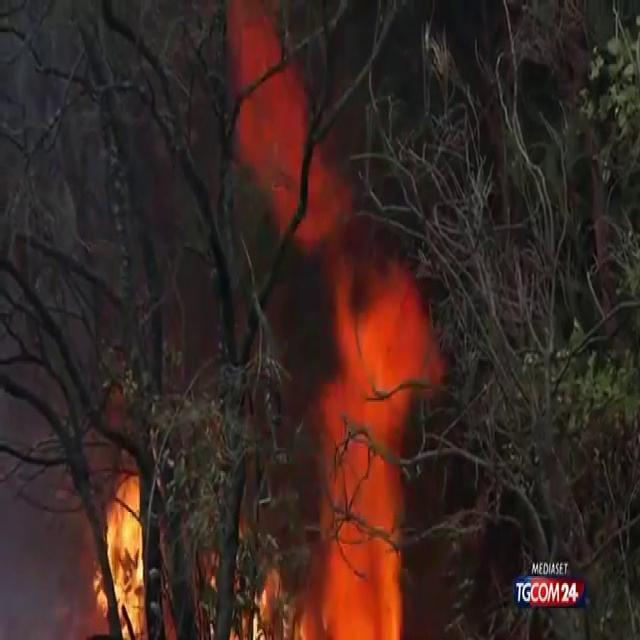Fire: (255, 110, 446, 638), (90, 463, 150, 636)
